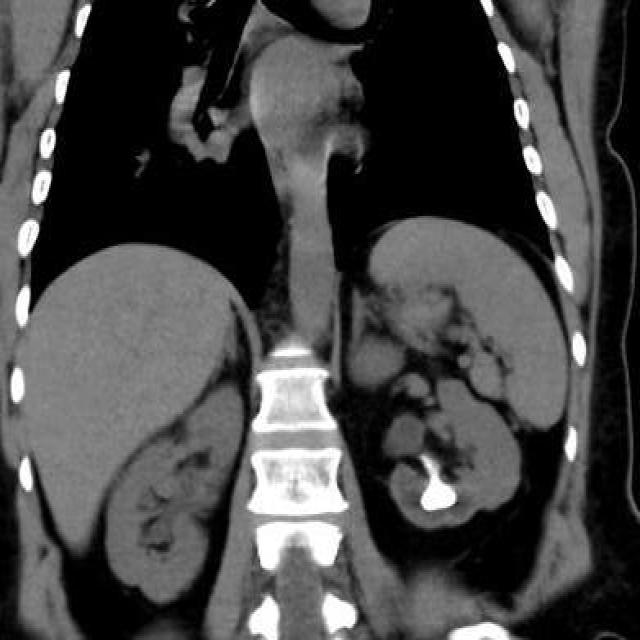Tas_Var: (418, 473, 459, 513), (421, 451, 434, 471)
